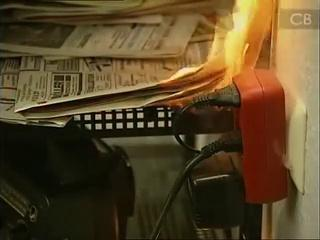Fire: (128, 1, 262, 119)
